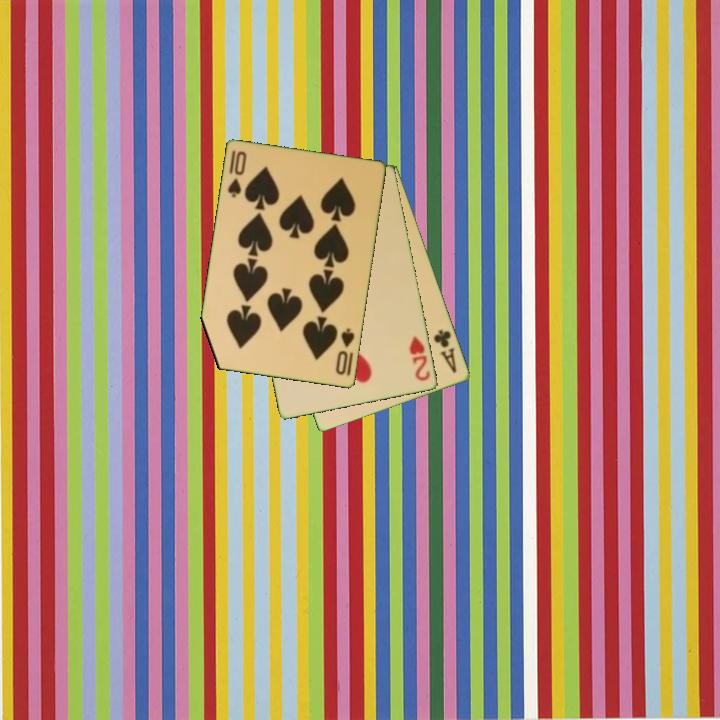10s: (224, 147, 250, 201), (332, 325, 358, 378)
2h: (406, 333, 433, 384)
Ac: (430, 326, 460, 376)
